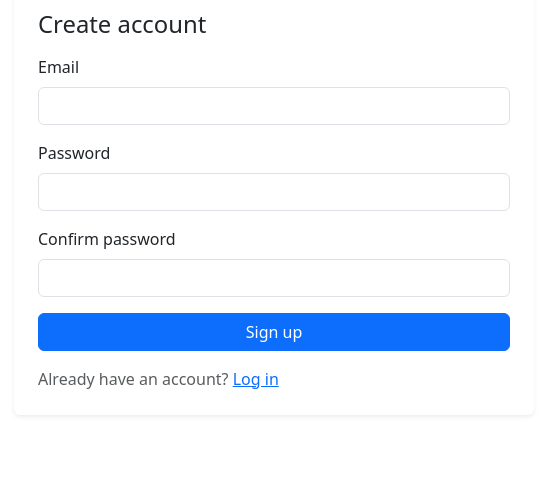
Test: SignupPage › shows validation error when password is empty
Step 1. Type "test@example.com" into the field labelled "Email" → coordinates (274, 106), box [38,87,510,125]
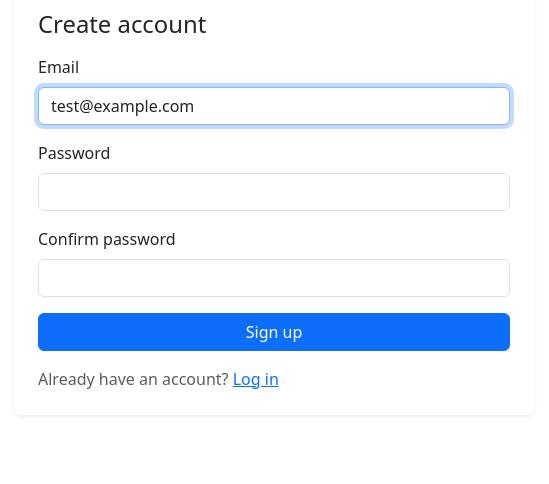
Step 2. Click the button "Sign up" → coordinates (274, 332), box [38,313,510,351]
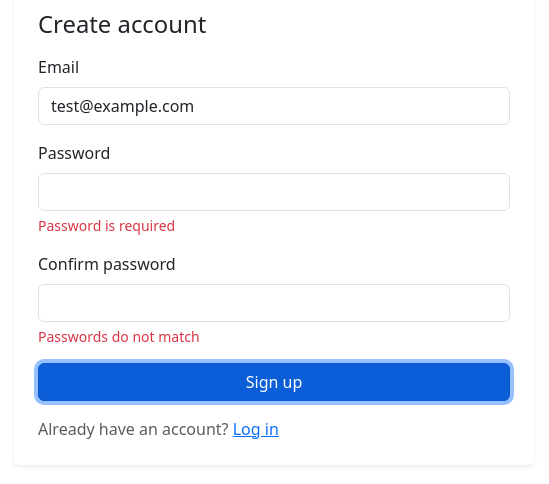
Expected: the text "Password is required" is shown, [38,216,175,235]
